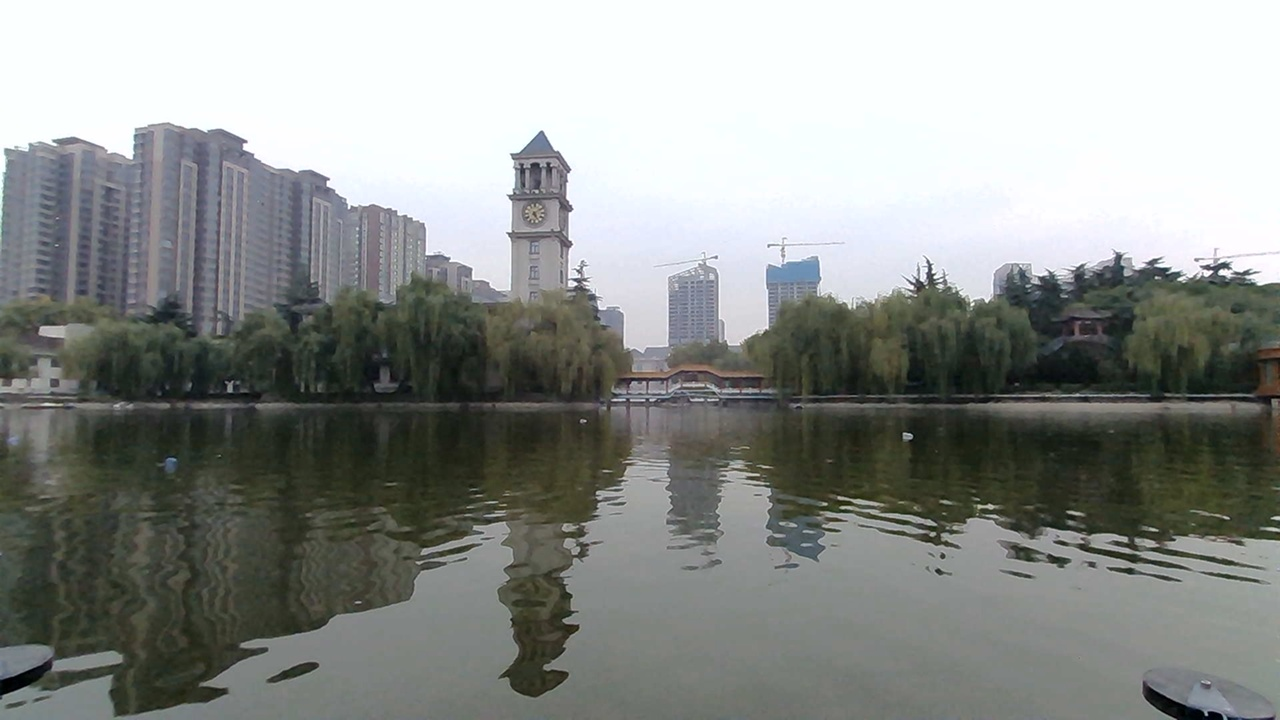bottle: (4, 417, 37, 449), (159, 452, 196, 480), (900, 424, 932, 453)
